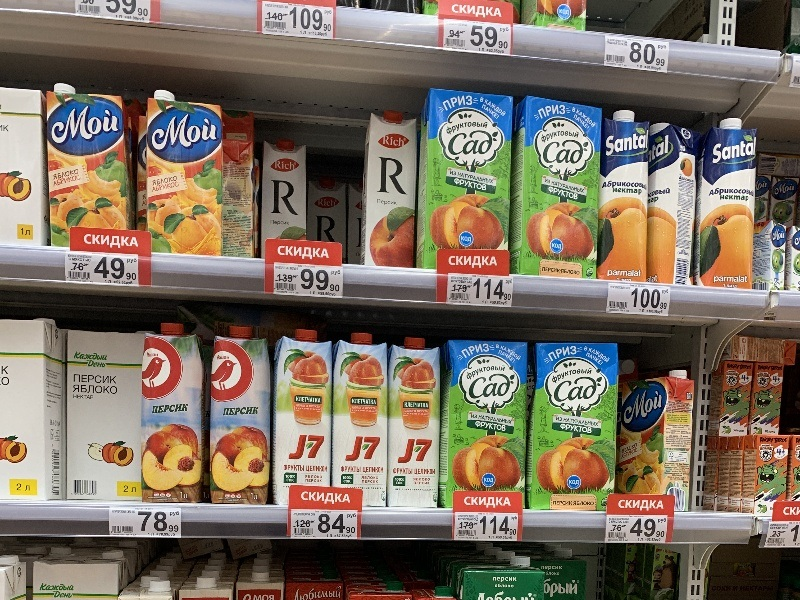juice: (512, 90, 608, 282), (419, 85, 521, 264), (527, 333, 624, 516), (42, 80, 139, 250), (136, 89, 227, 265), (132, 322, 216, 508), (442, 335, 532, 501), (200, 324, 279, 510), (692, 113, 766, 298), (354, 107, 424, 276), (269, 326, 339, 495), (593, 105, 655, 294), (386, 335, 447, 518), (332, 330, 392, 510)
